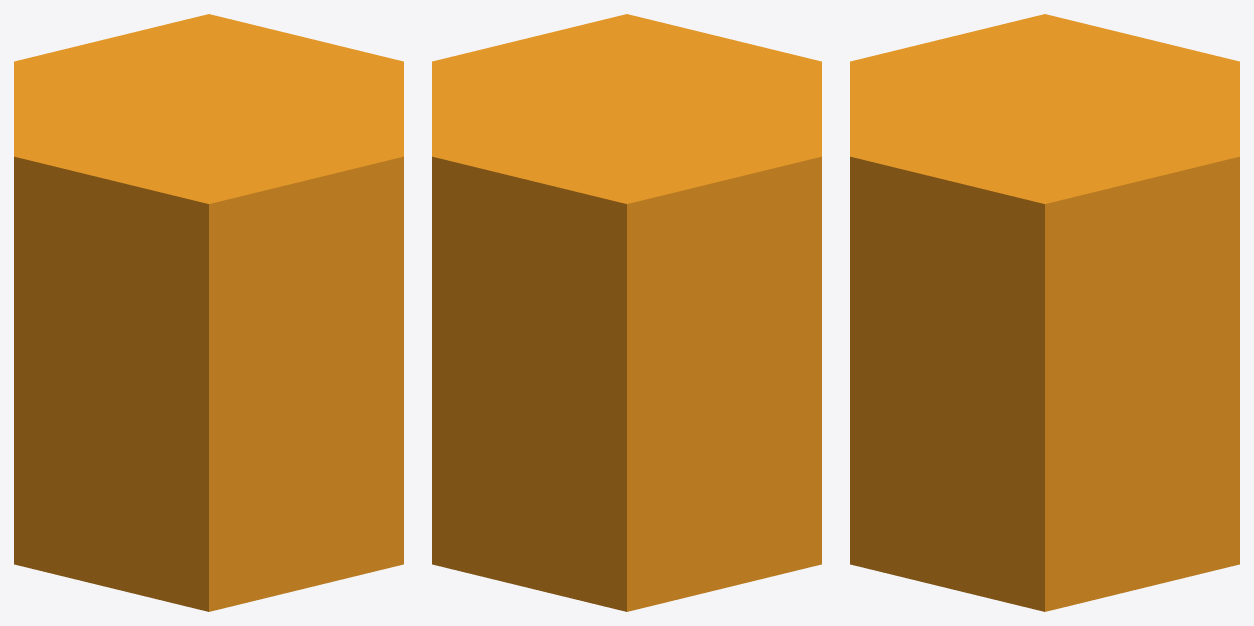
The model's file is SM_Primitive_Cylander_01.fbx.
3 views of the same model, side by side, from view 1: azimuth 30°, elevation 25°; view 2: azimuth 150°, elevation 25°; view 3: azimuth 270°, elevation 25° (orthographic).
Visible parts, largest first — view 1: SM_Primitive_Cylander_01; view 2: SM_Primitive_Cylander_01; view 3: SM_Primitive_Cylander_01.
Part boxes in pixels (box(x1,y1,x2,y2)): SM_Primitive_Cylander_01: box(14, 14, 403, 611); SM_Primitive_Cylander_01: box(432, 14, 821, 611); SM_Primitive_Cylander_01: box(850, 14, 1239, 611).
Size of the model in its own units: 100 by 100 by 86.6.
